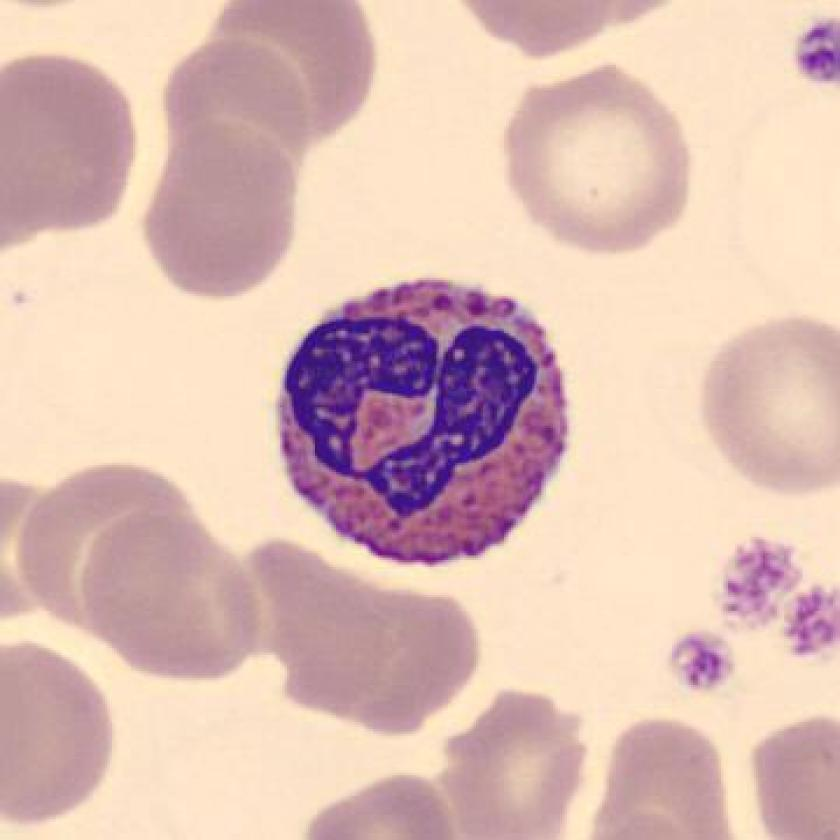eosinophil: (262, 256, 587, 591)
